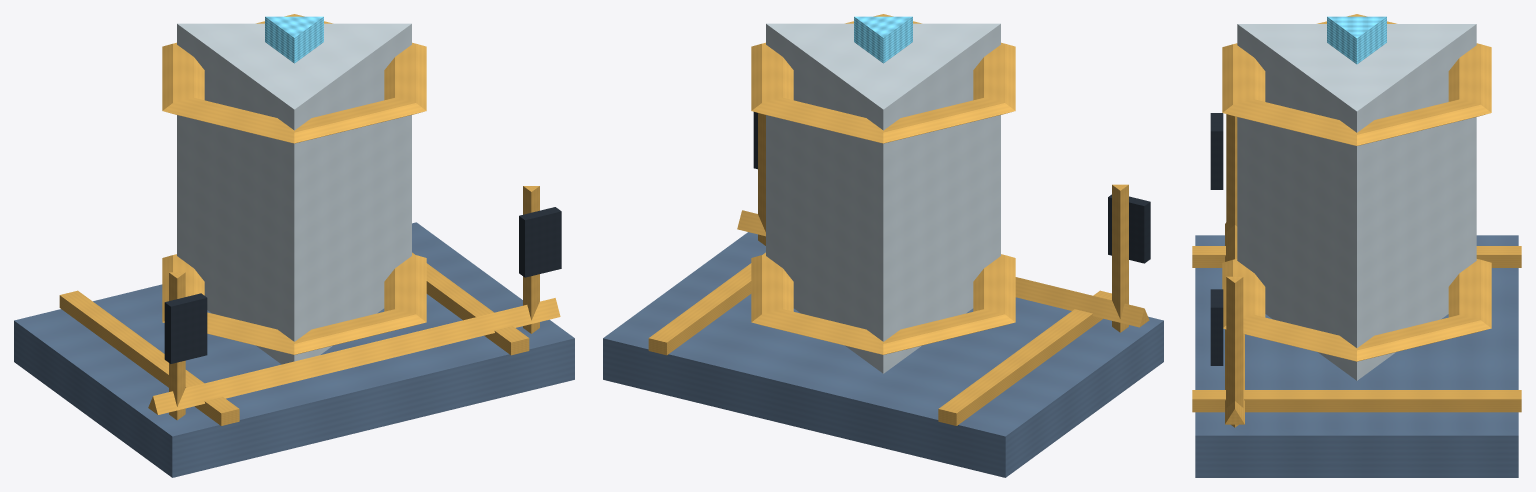
File: atlas100-s057-a02.lod2.glb
3 renders of one model, left to right at view 1: azimuth 30°, elevation 25°; view 2: azimuth 150°, elevation 25°; view 3: azimuth 270°, elevation 25°, orthographic.
Parts seen in each view (by area): view 1: atlas100-s057-a02:part-003, atlas100-s057-a02:part-000, atlas100-s057-a02:part-005, atlas100-s057-a02:part-012, atlas100-s057-a02:part-004, atlas100-s057-a02:part-001, atlas100-s057-a02:part-009, atlas100-s057-a02:part-011, atlas100-s057-a02:part-002, atlas100-s057-a02:part-006, atlas100-s057-a02:part-008, atlas100-s057-a02:part-010; view 2: atlas100-s057-a02:part-003, atlas100-s057-a02:part-000, atlas100-s057-a02:part-005, atlas100-s057-a02:part-004, atlas100-s057-a02:part-001, atlas100-s057-a02:part-012, atlas100-s057-a02:part-002, atlas100-s057-a02:part-008, atlas100-s057-a02:part-006, atlas100-s057-a02:part-009, atlas100-s057-a02:part-010; view 3: atlas100-s057-a02:part-003, atlas100-s057-a02:part-000, atlas100-s057-a02:part-005, atlas100-s057-a02:part-004, atlas100-s057-a02:part-002, atlas100-s057-a02:part-010, atlas100-s057-a02:part-006, atlas100-s057-a02:part-001, atlas100-s057-a02:part-008, atlas100-s057-a02:part-012, atlas100-s057-a02:part-009, atlas100-s057-a02:part-011.
Boxes of the visible parts, x1=… form: atlas100-s057-a02:part-003: x1=177, y1=23, x2=411, y2=364; atlas100-s057-a02:part-000: x1=14, y1=222, x2=574, y2=477; atlas100-s057-a02:part-005: x1=162, y1=14, x2=426, y2=143; atlas100-s057-a02:part-012: x1=148, y1=298, x2=560, y2=414; atlas100-s057-a02:part-004: x1=162, y1=254, x2=426, y2=354; atlas100-s057-a02:part-001: x1=59, y1=290, x2=239, y2=425; atlas100-s057-a02:part-009: x1=164, y1=293, x2=207, y2=363; atlas100-s057-a02:part-011: x1=519, y1=207, x2=561, y2=277; atlas100-s057-a02:part-002: x1=412, y1=252, x2=529, y2=355; atlas100-s057-a02:part-006: x1=265, y1=16, x2=323, y2=63; atlas100-s057-a02:part-008: x1=169, y1=272, x2=185, y2=420; atlas100-s057-a02:part-010: x1=523, y1=186, x2=539, y2=333; atlas100-s057-a02:part-003: x1=766, y1=23, x2=1000, y2=373; atlas100-s057-a02:part-000: x1=603, y1=232, x2=1163, y2=477; atlas100-s057-a02:part-005: x1=751, y1=14, x2=1015, y2=143; atlas100-s057-a02:part-004: x1=751, y1=254, x2=1015, y2=354; atlas100-s057-a02:part-001: x1=938, y1=290, x2=1111, y2=425; atlas100-s057-a02:part-012: x1=737, y1=210, x2=1149, y2=327; atlas100-s057-a02:part-002: x1=648, y1=252, x2=765, y2=355; atlas100-s057-a02:part-008: x1=1112, y1=184, x2=1128, y2=332; atlas100-s057-a02:part-006: x1=854, y1=16, x2=912, y2=63; atlas100-s057-a02:part-009: x1=1108, y1=194, x2=1150, y2=263; atlas100-s057-a02:part-010: x1=758, y1=113, x2=765, y2=245; atlas100-s057-a02:part-003: x1=1237, y1=24, x2=1476, y2=380; atlas100-s057-a02:part-000: x1=1195, y1=235, x2=1518, y2=477; atlas100-s057-a02:part-005: x1=1222, y1=14, x2=1491, y2=145; atlas100-s057-a02:part-004: x1=1222, y1=259, x2=1491, y2=361; atlas100-s057-a02:part-002: x1=1192, y1=390, x2=1521, y2=412; atlas100-s057-a02:part-010: x1=1226, y1=276, x2=1243, y2=427; atlas100-s057-a02:part-006: x1=1327, y1=16, x2=1386, y2=64; atlas100-s057-a02:part-001: x1=1192, y1=246, x2=1521, y2=267; atlas100-s057-a02:part-008: x1=1226, y1=114, x2=1237, y2=231; atlas100-s057-a02:part-012: x1=1225, y1=222, x2=1244, y2=424; atlas100-s057-a02:part-009: x1=1210, y1=113, x2=1223, y2=189; atlas100-s057-a02:part-011: x1=1210, y1=289, x2=1223, y2=365.
Size of the model in its own units: 2.64 by 2.18 by 1.84.
5 materials, 5 textured.
